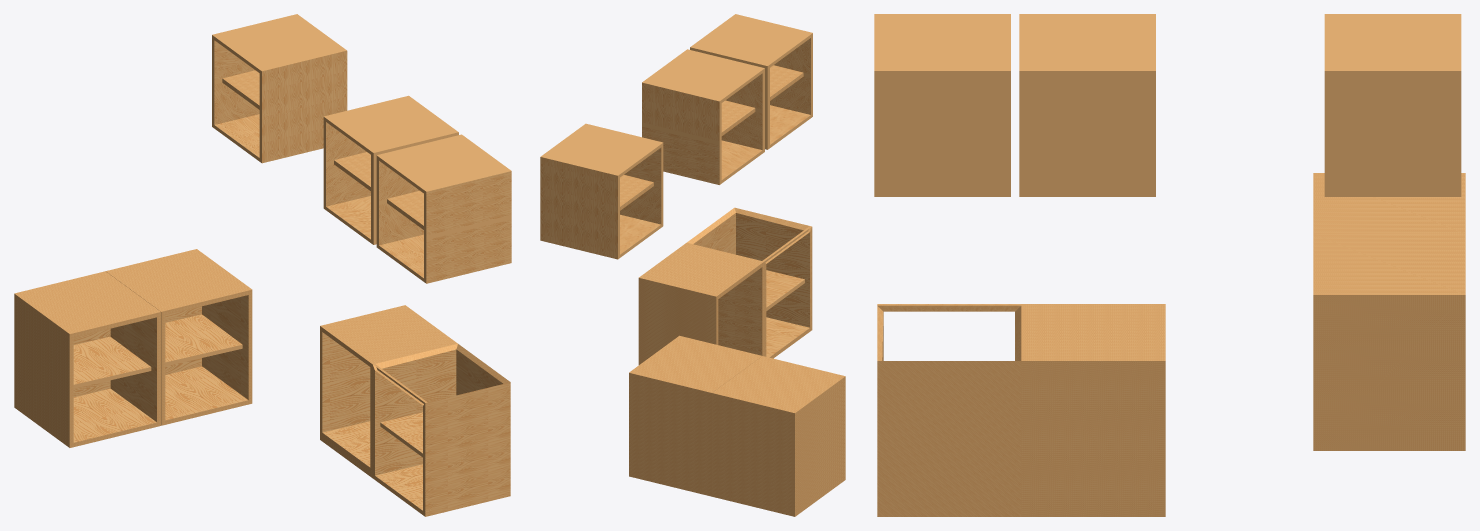
File: mueblescocina.obj
3 renders of one model, left to right at view 1: azimuth 30°, elevation 25°; view 2: azimuth 150°, elevation 25°; view 3: azimuth 270°, elevation 25°, orthographic. The views are drawn at different scales.
Parts seen in each view (by area): view 1: Plane.022_Plane.014; view 2: Plane.022_Plane.014; view 3: Plane.022_Plane.014.
Part boxes in pixels (x1,y1,x2,y2): Plane.022_Plane.014: [14, 14, 511, 516]; Plane.022_Plane.014: [540, 14, 845, 516]; Plane.022_Plane.014: [874, 14, 1465, 516].
Bounding box in the file's own units: 5.49 × 6.08 × 7.3.
Materials: 2 (2 with a texture image).
